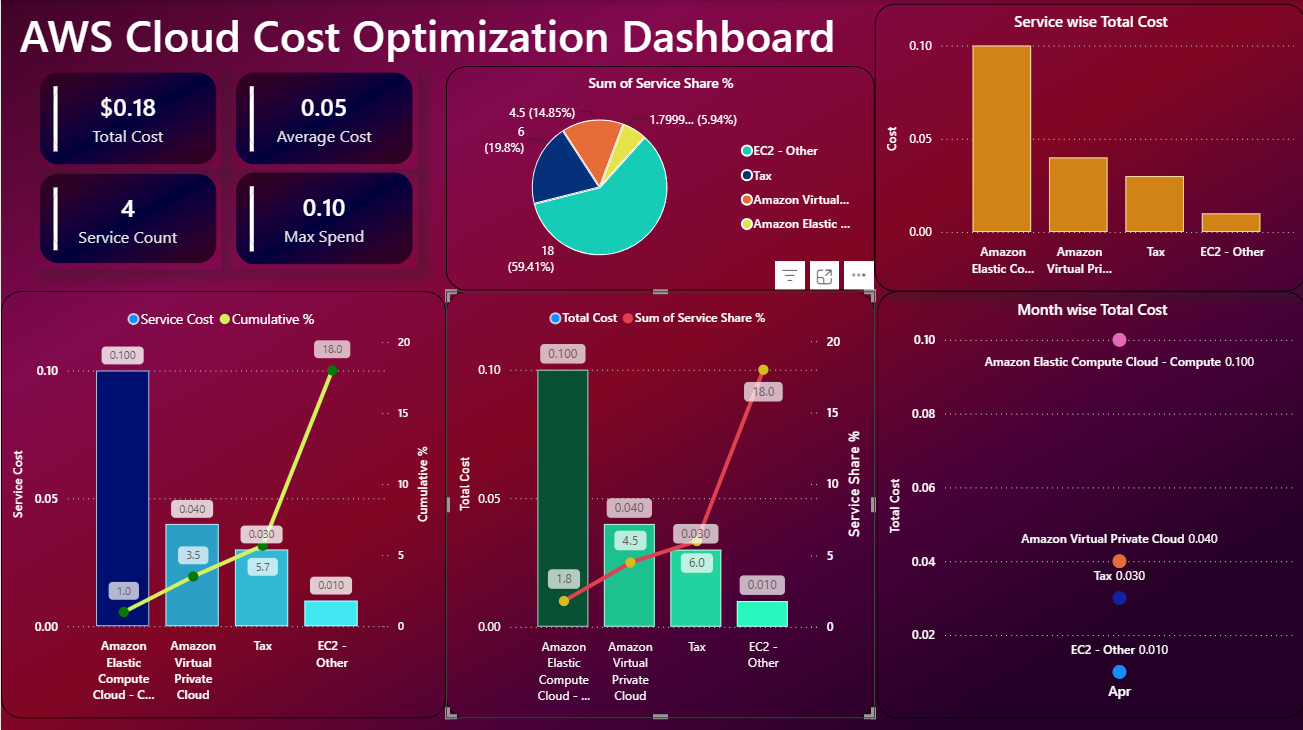

The dashboard page shown, as its layout file describes it:
{"tool":"powerbi","page":{"name":"Page 1","canvas":[1280,720],"ordinal":0},"visuals":[{"type":"clusteredColumnChart","title":"Service wise Total Cost","fields":{"Category":["cleaned_costs.Service"],"Y":["Sum(cleaned_costs.Cost)"]},"box":[857.2,3.7,423,282],"z":0},{"type":"lineChart","title":"Month wise Total Cost","fields":{"Category":["cleaned_costs.Month Name"],"Y":["Sum(cleaned_costs.Cost)"],"Series":["cleaned_costs.Service"]},"box":[859.7,285.7,420.6,419.3],"z":1000},{"type":"pieChart","title":"Sum of Service Share %","fields":{"Category":["cleaned_costs.Service"],"Y":["Sum(cleaned_costs.Service Share %)"]},"box":[436.6,65.6,420.6,220.2],"z":2000},{"type":"cardVisual","fields":{"Data":["cleaned_costs.Total Cost"]},"box":[32.9,65.8,183.1,100.2],"z":3000},{"type":"cardVisual","fields":{"Data":["cleaned_costs.Average Cost"]},"box":[225.9,65.8,183.1,100.2],"z":4000},{"type":"cardVisual","fields":{"Data":["cleaned_costs.Max Spend"]},"box":[225.9,164.8,183.1,100.2],"z":5000},{"type":"textbox","box":[13.6,0,846.1,75.5],"z":6000},{"type":"lineStackedColumnComboChart","fields":{"Y":["cleaned_costs.Total Cost"],"Y2":["Sum(cleaned_costs.Service Share %)"],"Category":["cleaned_costs.Service"]},"box":[436.6,285.7,420.6,419.3],"z":7000},{"type":"cardVisual","fields":{"Data":["cleaned_costs.Service Count"]},"box":[32.9,166,183.1,99],"z":8000},{"type":"lineClusteredColumnComboChart","fields":{"Y":["cleaned_costs.Service Cost"],"Y2":["cleaned_costs.Cumulative %"],"Category":["cleaned_costs.Service"]},"box":[0,285.7,436.6,419.3],"z":9000}]}

Visuals, with their boxes in screenshot pixels (x1, y1, x2, y2), scaled from the page's 1280x720 canvas onto the 1303x730 screenshot:
"Service wise Total Cost" clusteredColumnChart: bbox(873, 4, 1302, 290)
"Month wise Total Cost" lineChart: bbox(875, 290, 1302, 715)
"Sum of Service Share %" pieChart: bbox(444, 67, 873, 290)
cardVisual - cleaned_costs.Total Cost: bbox(33, 67, 220, 168)
cardVisual - cleaned_costs.Average Cost: bbox(230, 67, 416, 168)
cardVisual - cleaned_costs.Max Spend: bbox(230, 167, 416, 269)
textbox: bbox(14, 0, 875, 77)
lineStackedColumnComboChart - cleaned_costs.Total Cost x Sum(cleaned_costs.Service Share %): bbox(444, 290, 873, 715)
cardVisual - cleaned_costs.Service Count: bbox(33, 168, 220, 269)
lineClusteredColumnComboChart - cleaned_costs.Service Cost x cleaned_costs.Cumulative %: bbox(0, 290, 444, 715)
